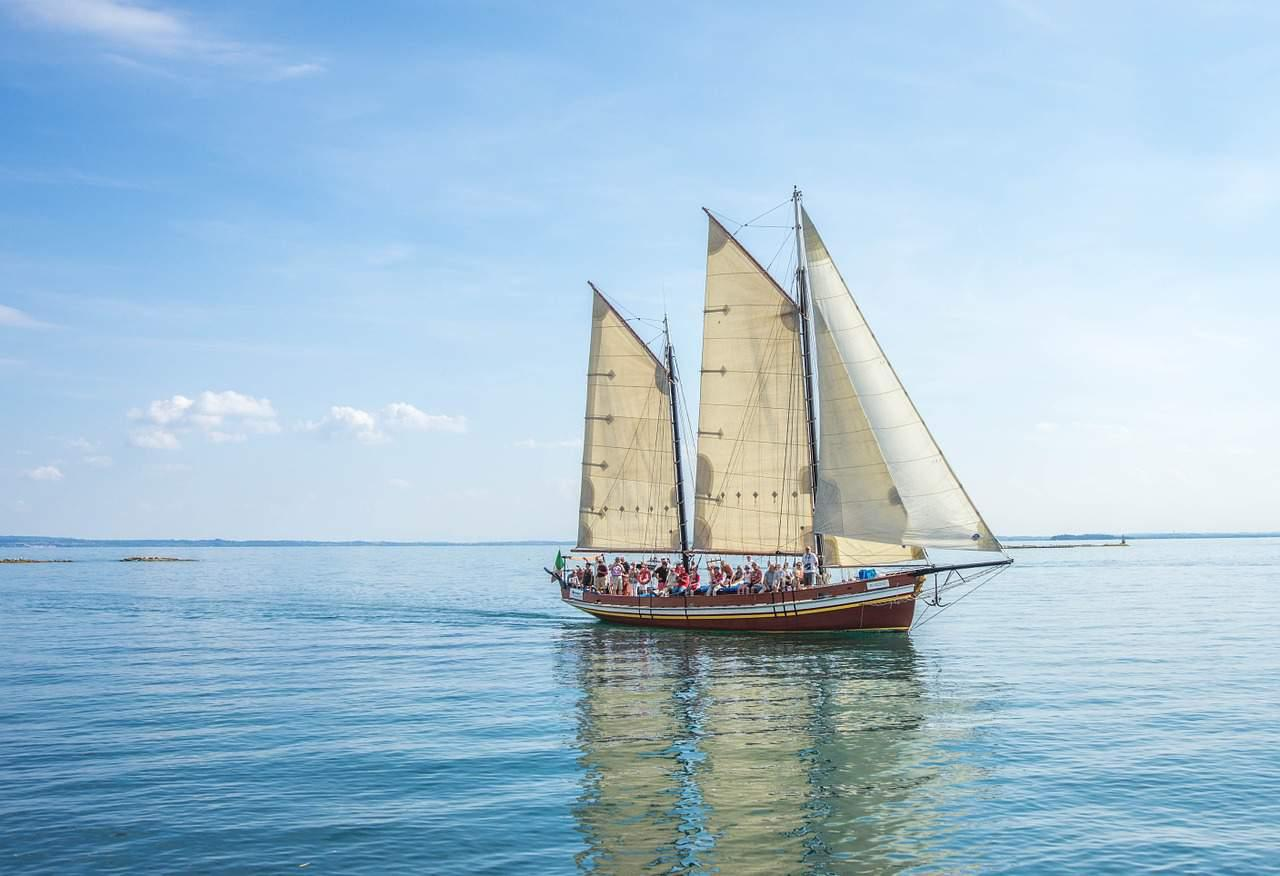Ship: (541, 188, 1015, 638)
